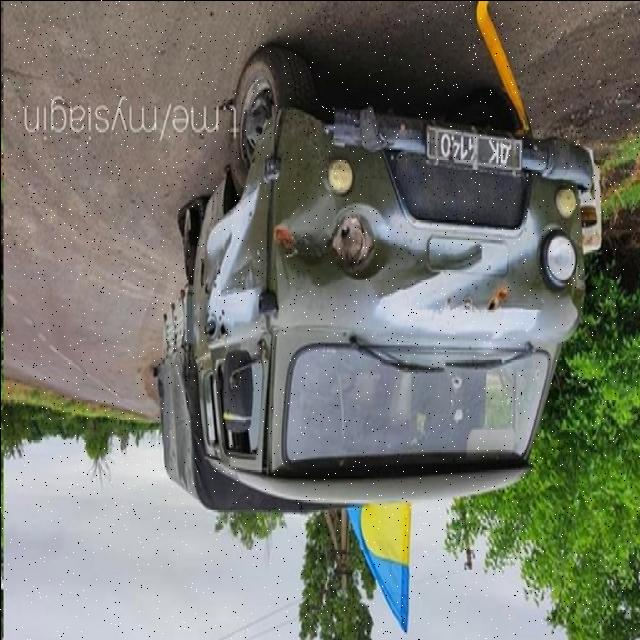TRUCK: (154, 38, 605, 542)
